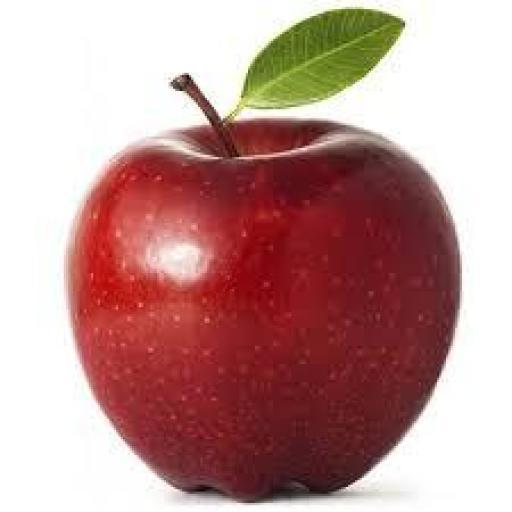apple: (69, 121, 459, 500)
